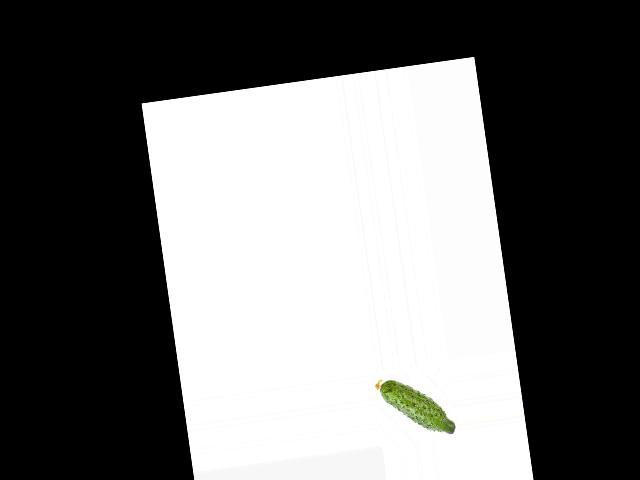cucumber: (373, 370, 455, 444)
